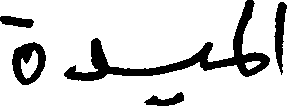ا: (271, 0, 284, 75)
ة: (0, 14, 46, 85)
د: (63, 36, 109, 81)
ل: (229, 0, 255, 62)
م: (235, 50, 270, 79)
ي: (143, 40, 211, 105)
